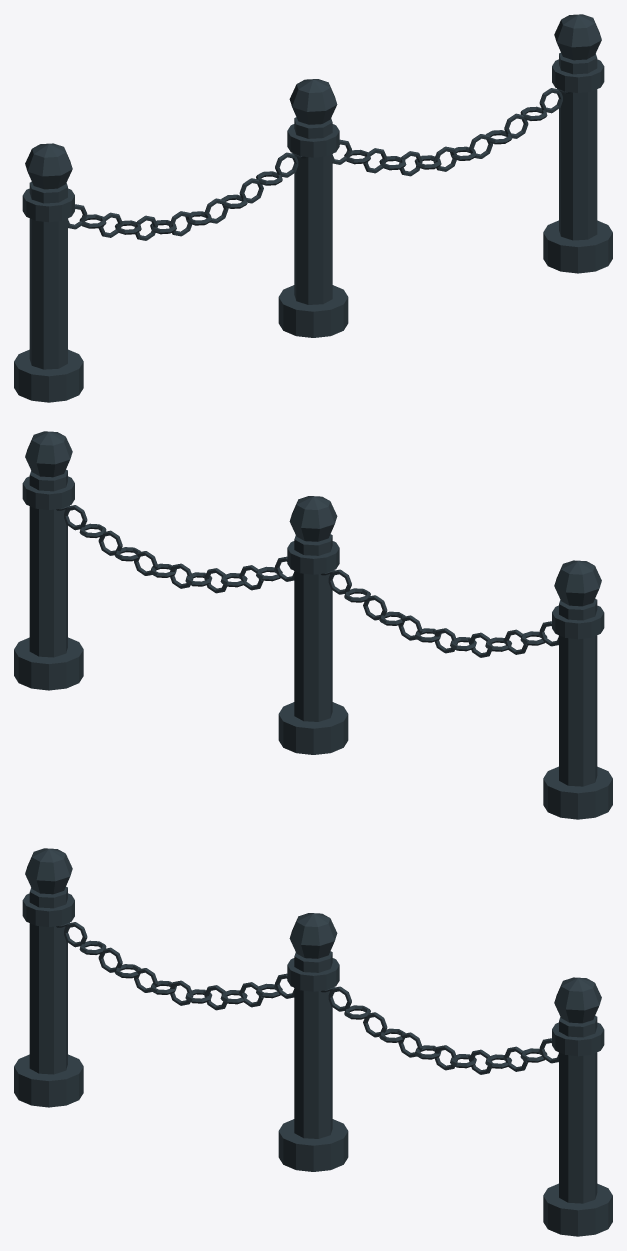
The model's file is b01_chain_linked_heritage_bollards.glb.
3 renders of one model, top to bottom at view 1: azimuth 30°, elevation 25°; view 2: azimuth 150°, elevation 25°; view 3: azimuth 330°, elevation 25°, orthographic.
Visible parts, largest first — view 1: b01_chain_linked_heritage_bollards; view 2: b01_chain_linked_heritage_bollards; view 3: b01_chain_linked_heritage_bollards.
Boxes of the visible parts, x1=… form: b01_chain_linked_heritage_bollards: x1=14, y1=14, x2=612, y2=402; b01_chain_linked_heritage_bollards: x1=14, y1=431, x2=612, y2=819; b01_chain_linked_heritage_bollards: x1=14, y1=848, x2=612, y2=1236.
Size of the model in its own units: 2.34 by 0.925 by 0.24.
